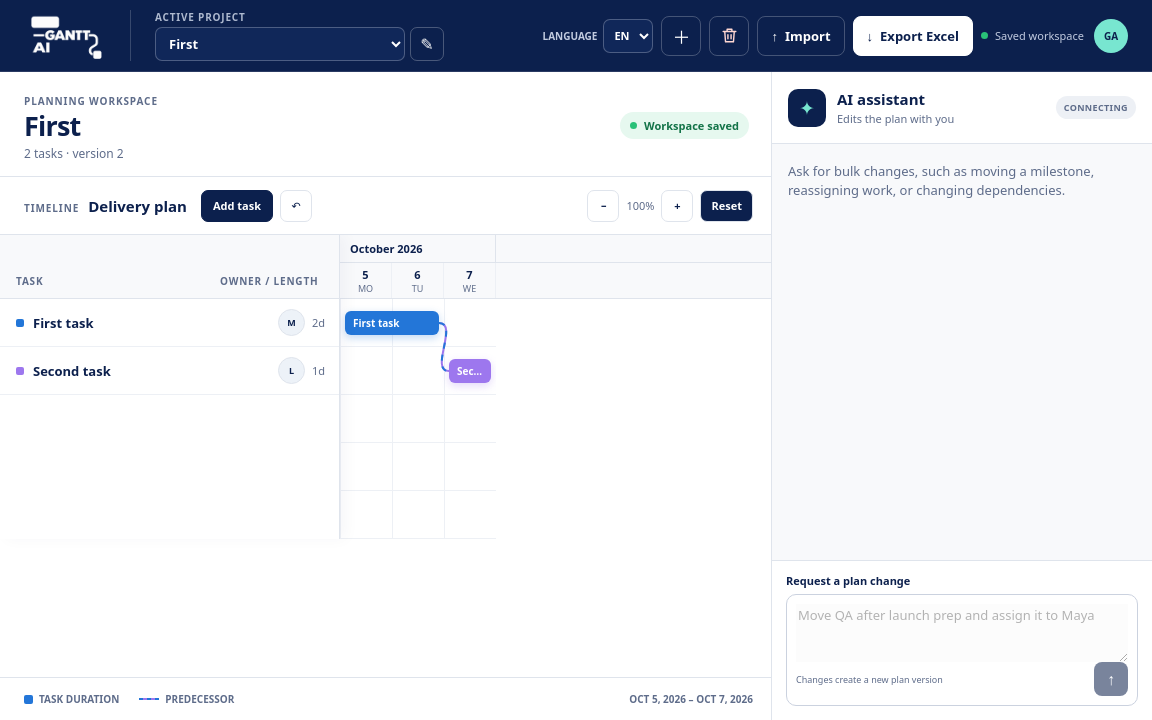
Test: plan view › keeps a project rename draft after a request failure
Click the button named "Rename project". click: (427, 44)
box: [410,27,444,61]
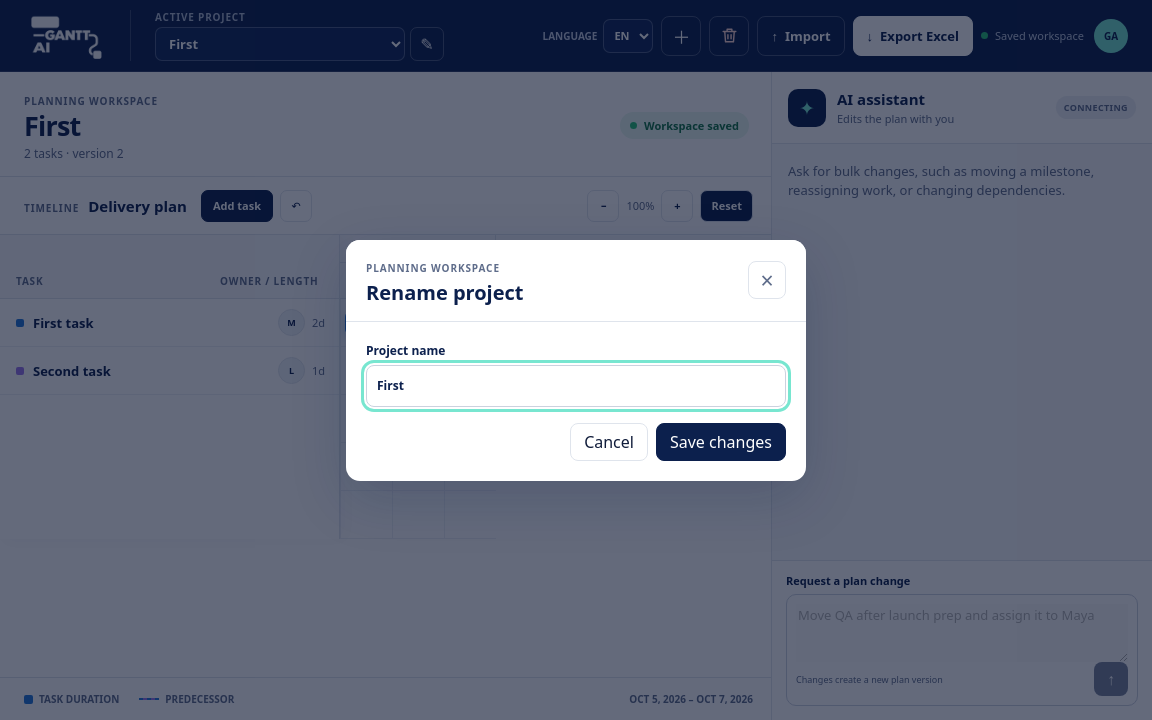
Replace the text in the field labelled "Project name" with "Unfinished rename". click: (576, 386)
box: [366,364,786,406]
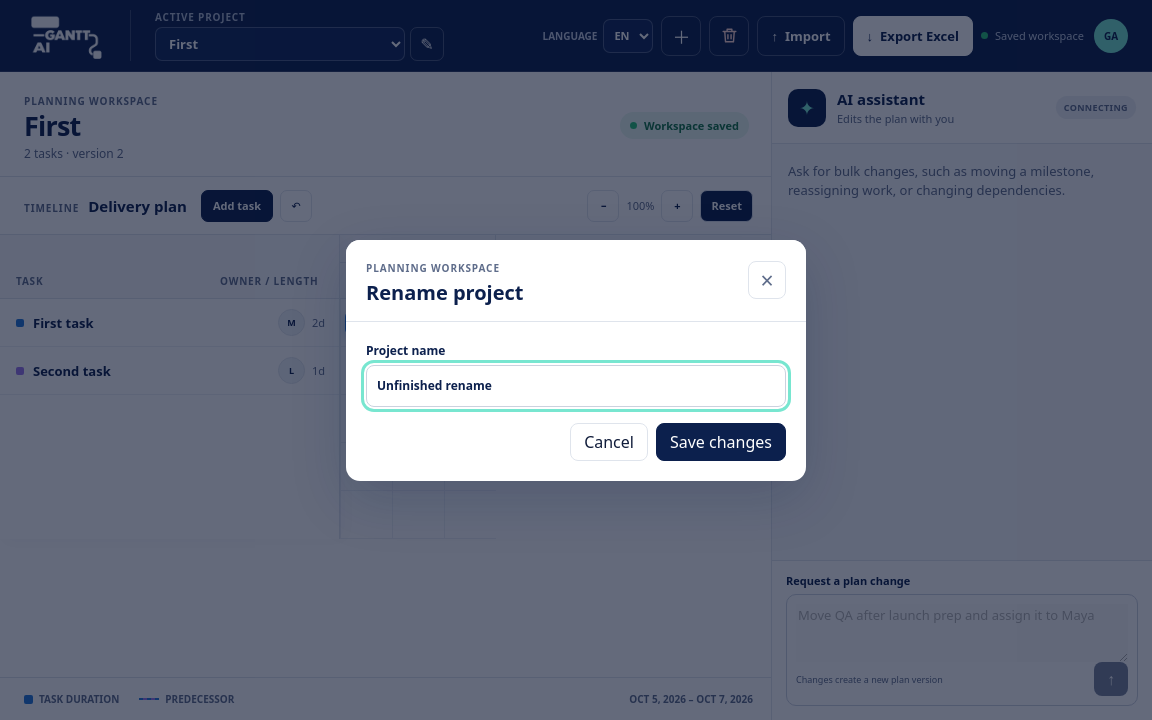
Click the button "Save changes". click: (721, 442)
box: [656,422,786,460]
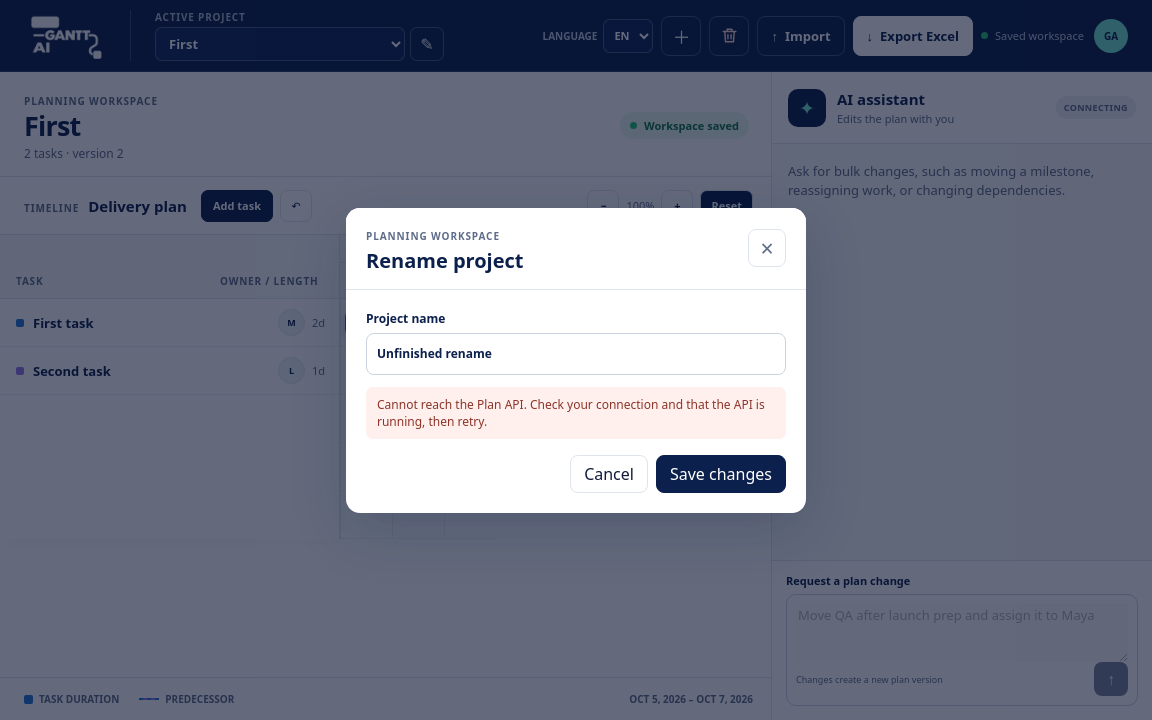
expect the heading "First" is shown: met, box [24,107,80,144]
expect the message shows "Cannot reach": met, box [377,396,765,430]
